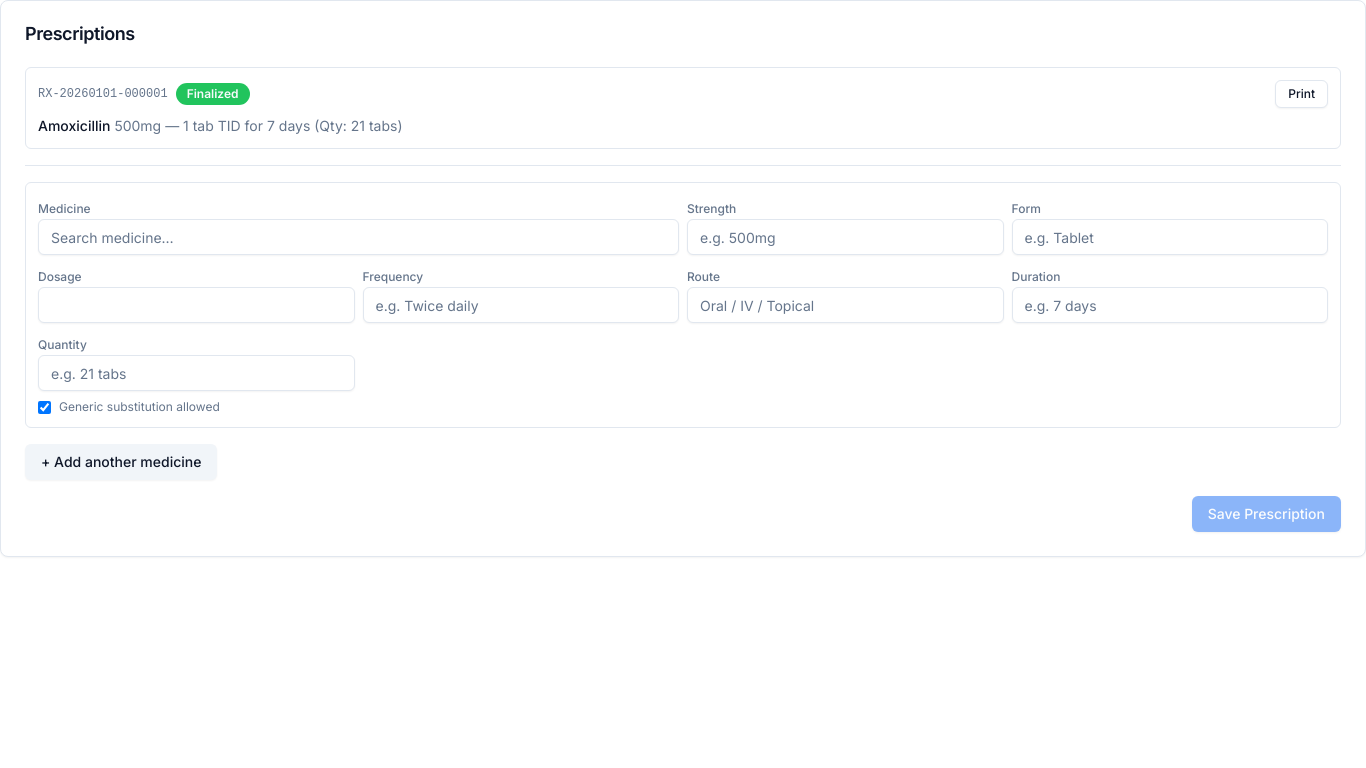
PrescriptionTab - searchable dropdowns/autocomplete (Task #8) › 7: Frequency shows suggestions from the shared vocabulary
The image size is (1366, 768).
Click the field with placeholder "e.g. Twice daily" at (521,305), box [362,287,679,323]
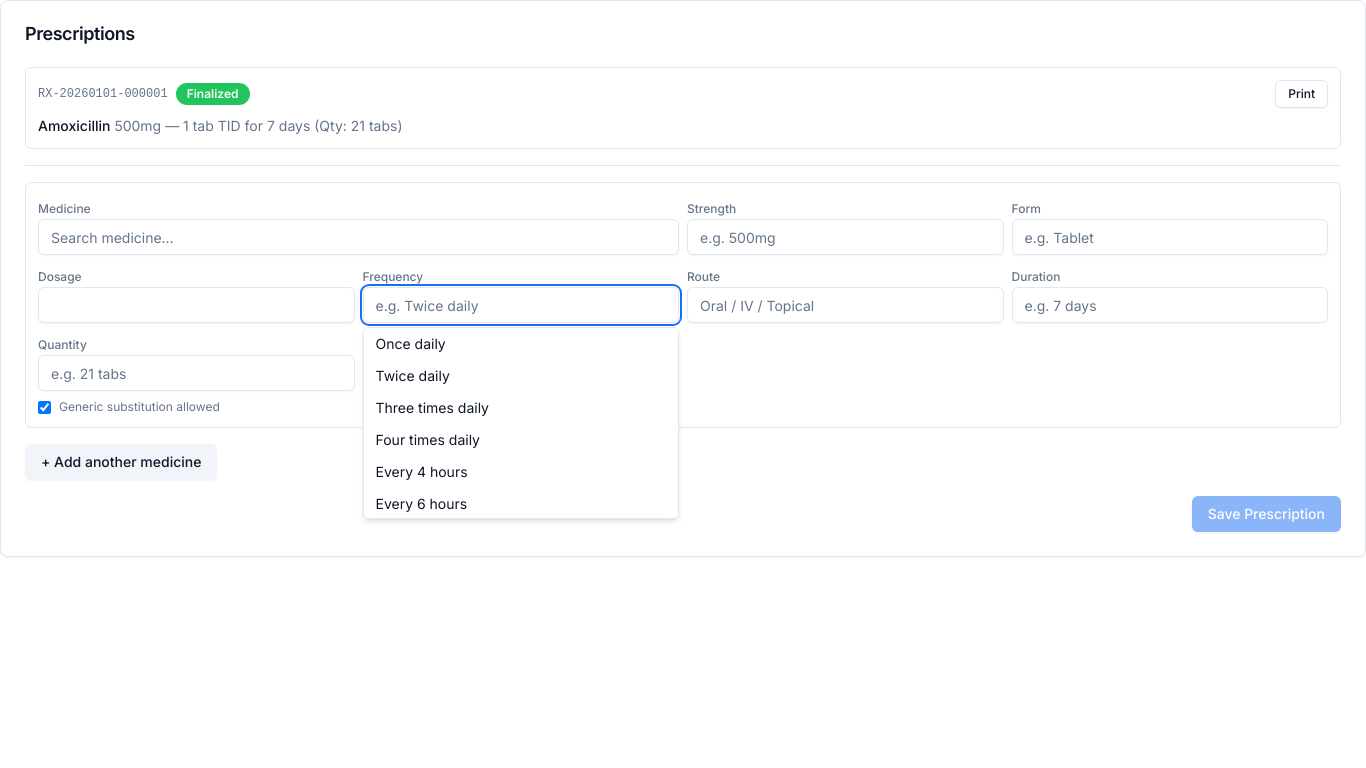
Check: the button "Once daily" is shown, box [364,328,678,360]
